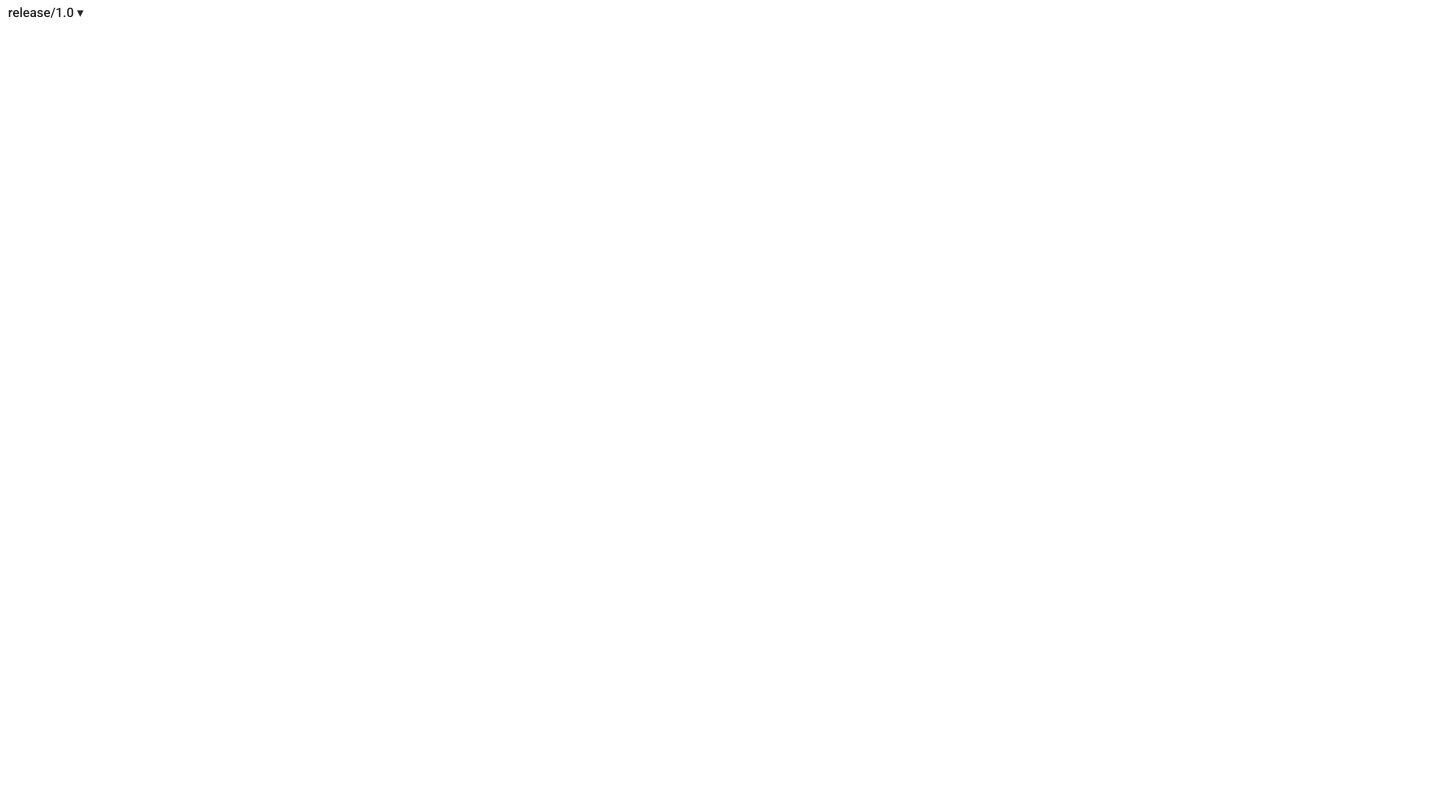
it: BranchButton creates a reusable branch option when the name is valid
Press Tab
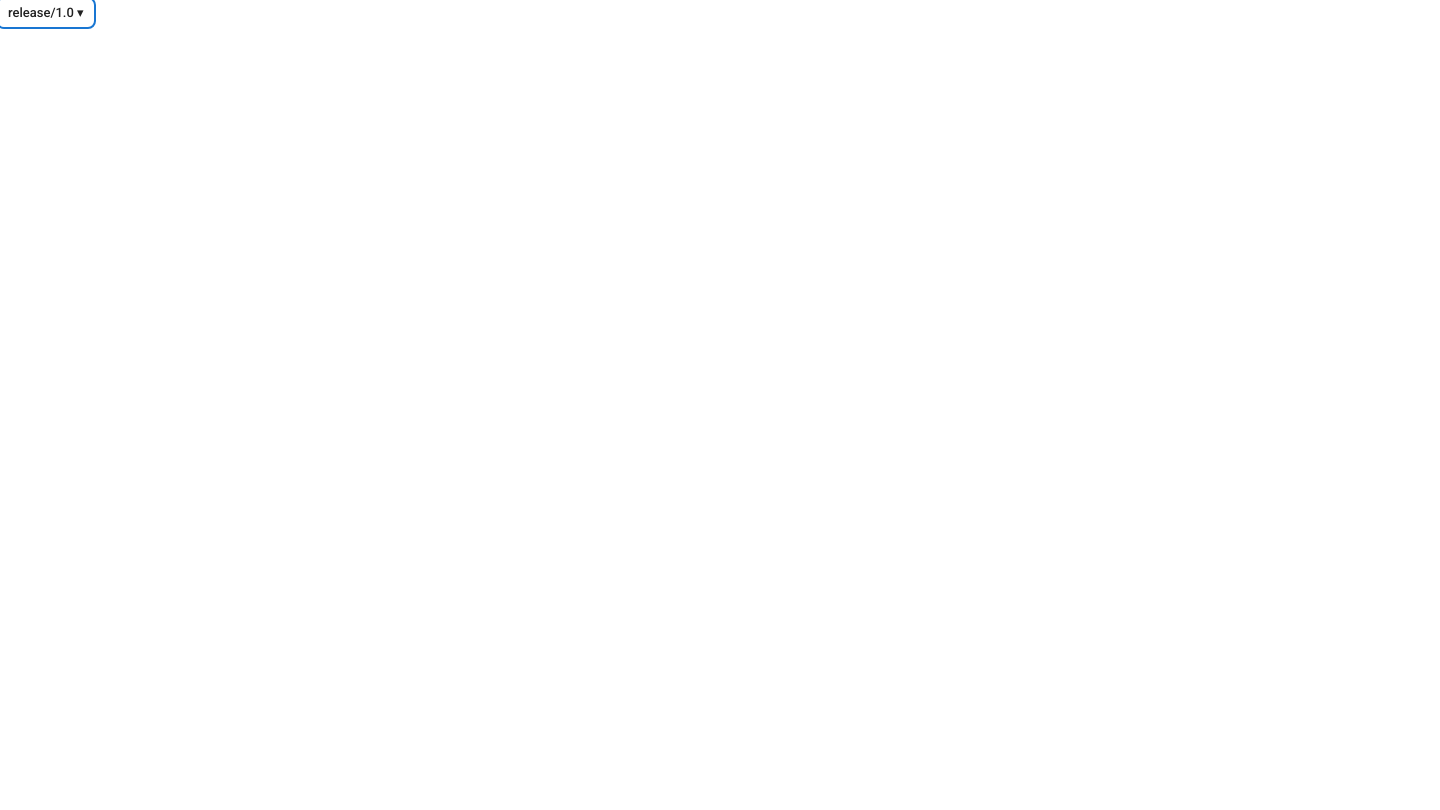
Press Enter
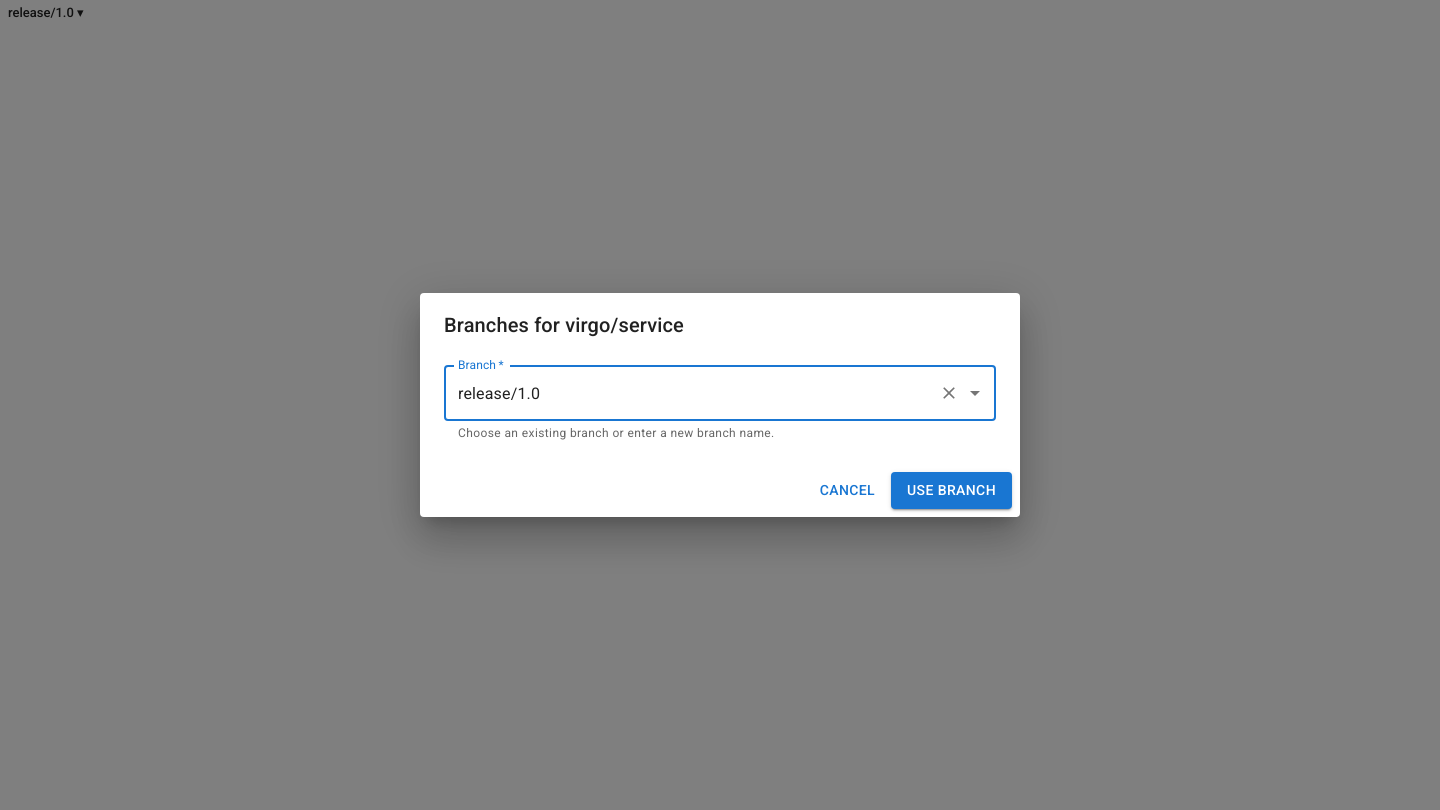
Replace the text in the dropdown labelled "Branch" with "feature/review": (692, 393) [453,374,931,412]
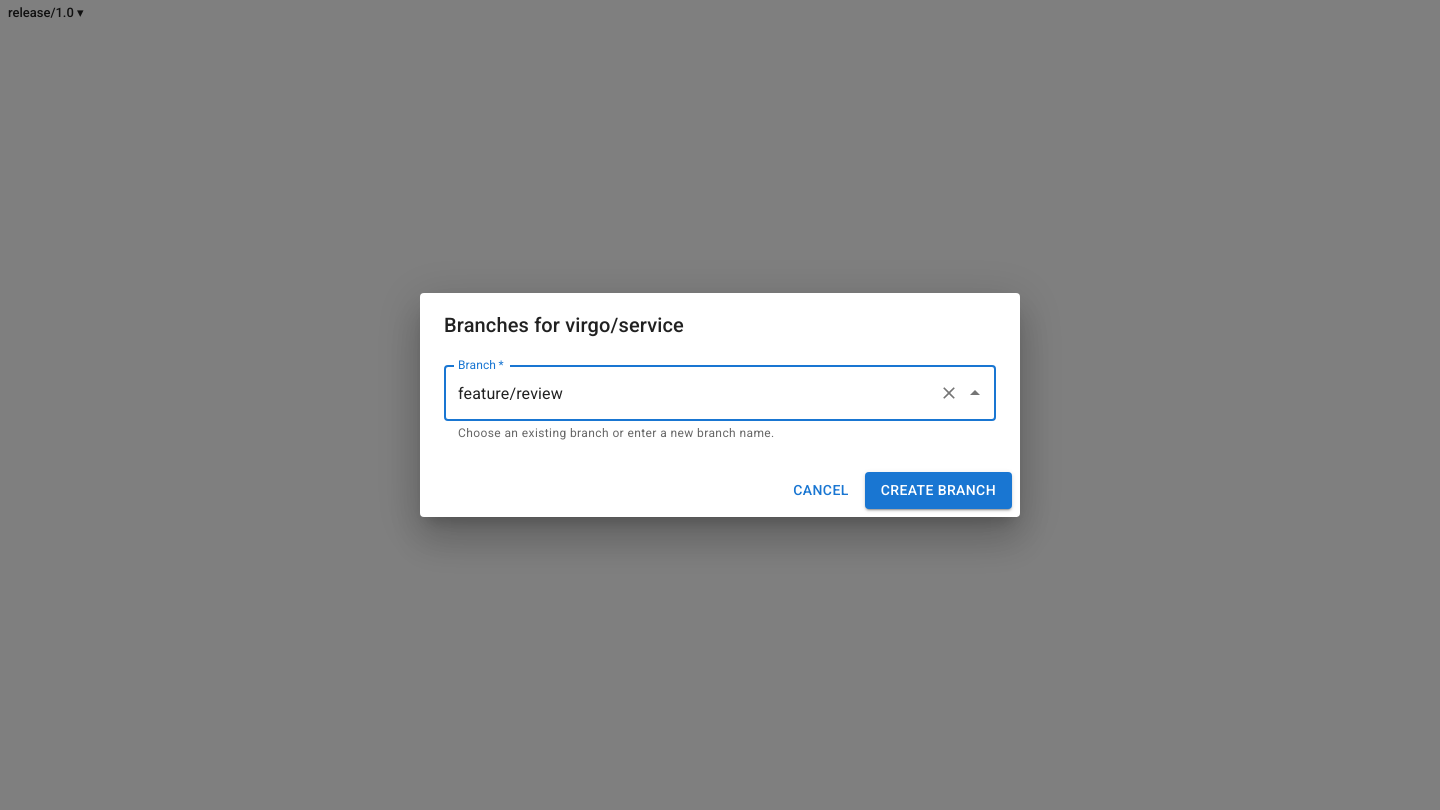
Click the button "Create branch": (938, 490) [865,472,1012,509]
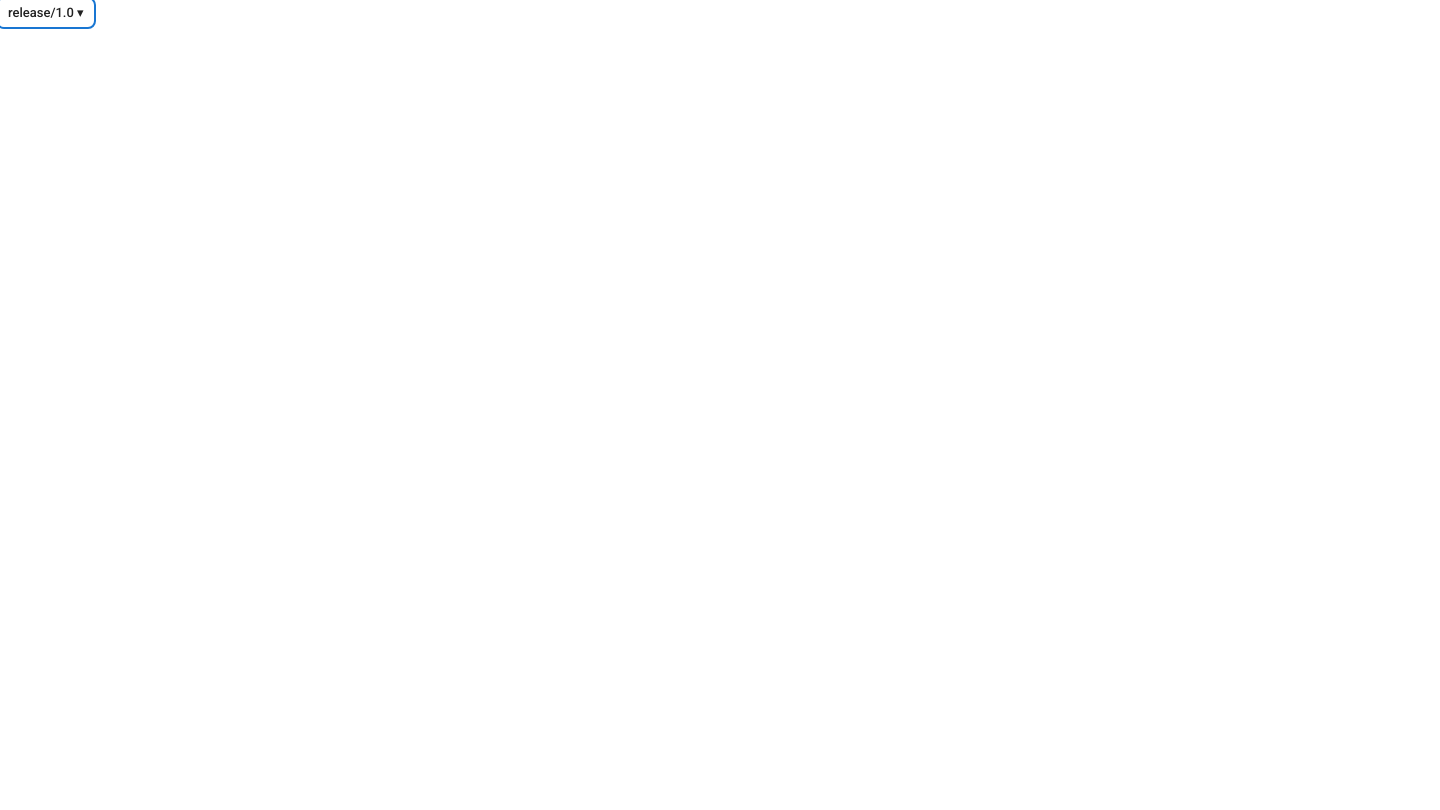
Expected: the dialog is gone
Press Enter
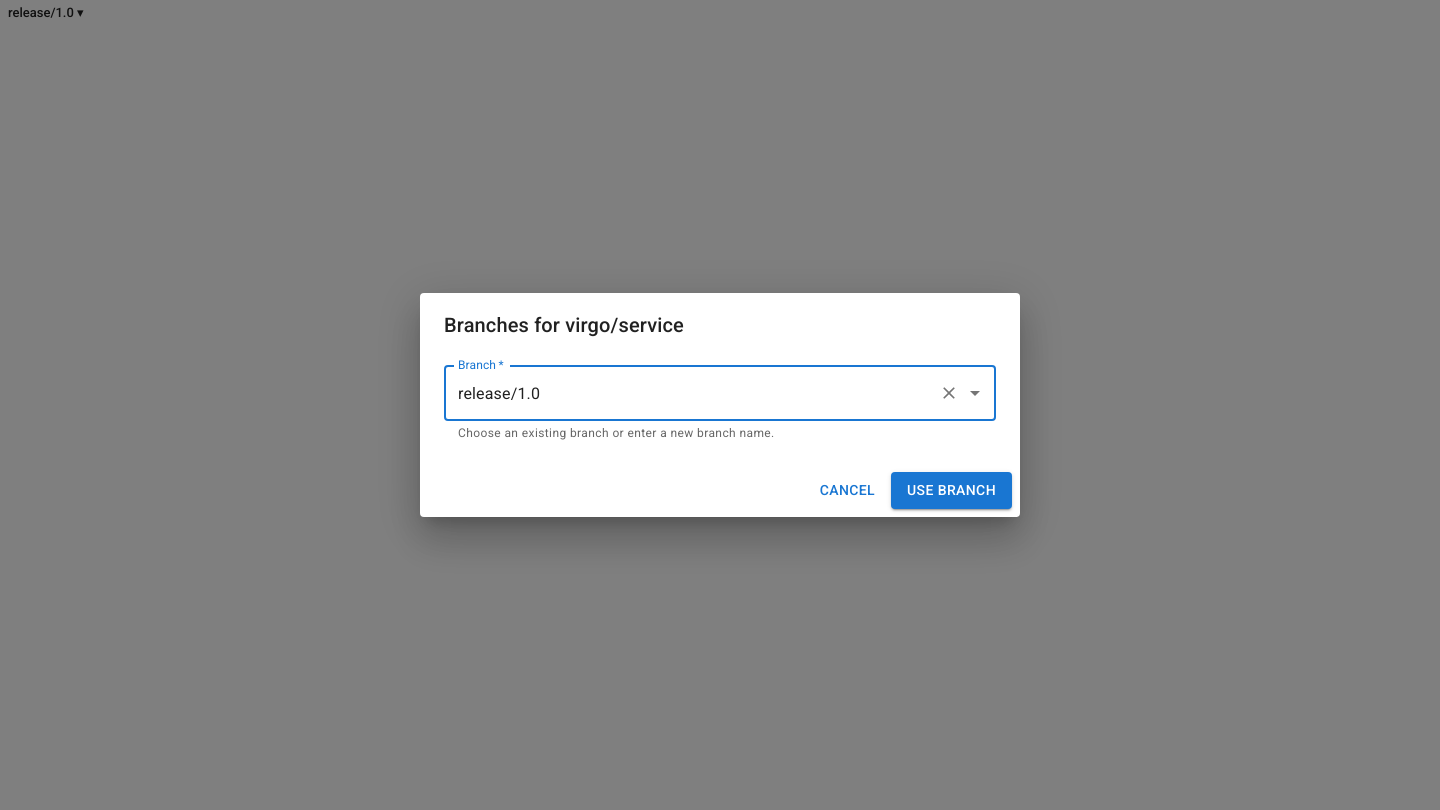
Click the button named "Show branches": (975, 393) [961,379,989,407]
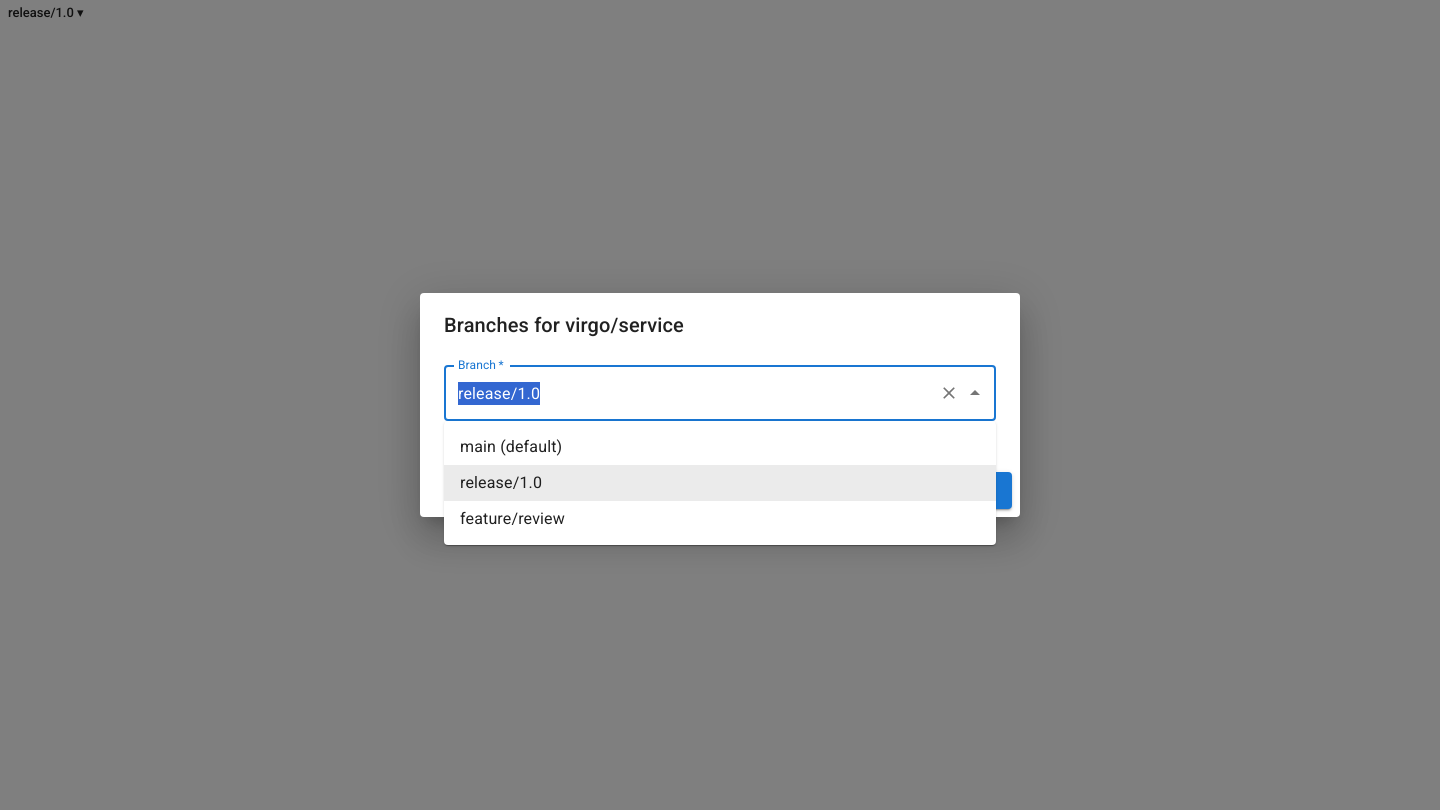
Expected: the option "feature/review" is shown, [460,509,565,528]
